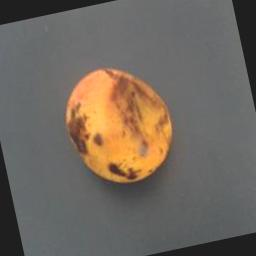Mango Rotten: (43, 54, 190, 210)
